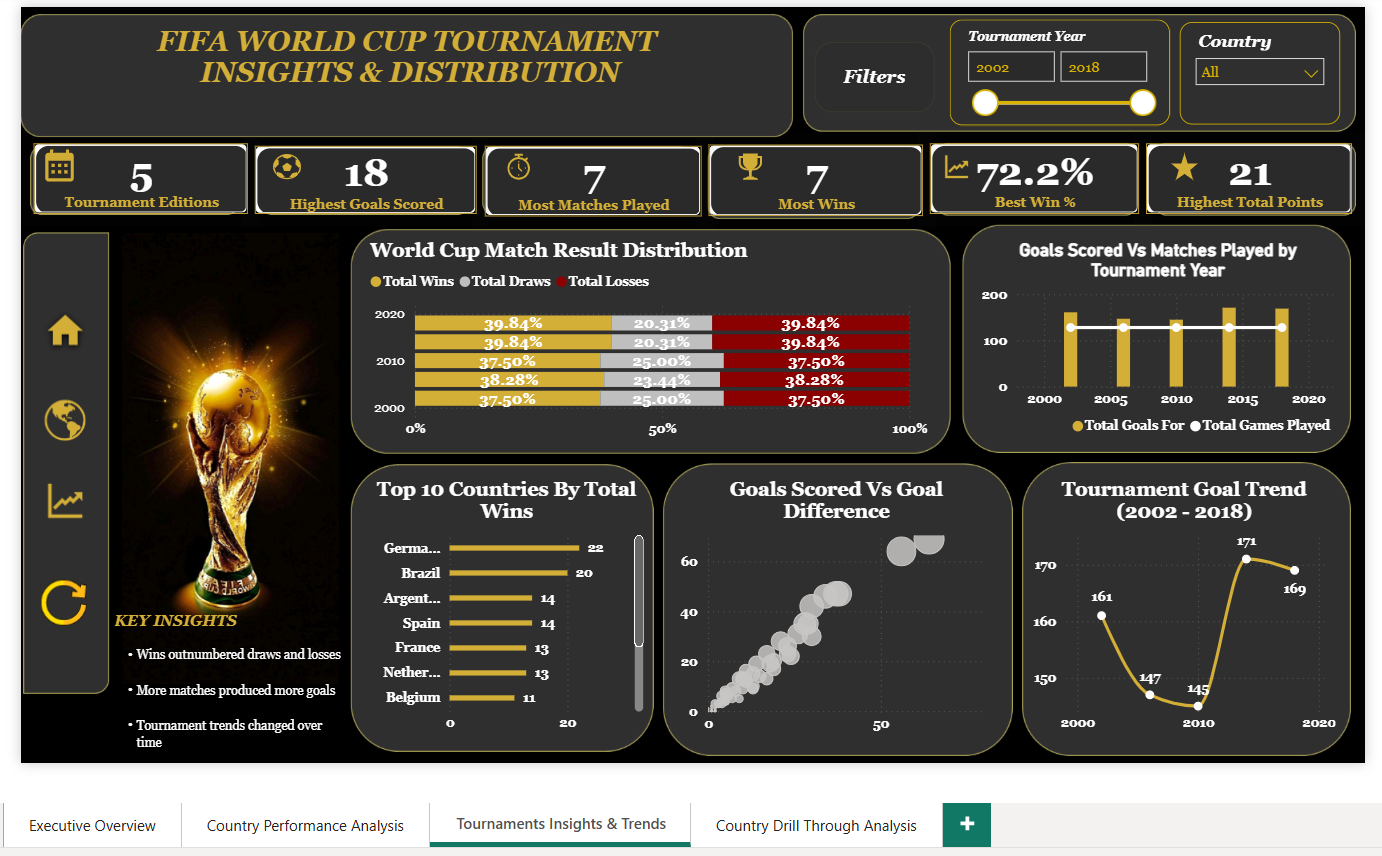

This screenshot's page, from the dashboard's own definition file:
{"tool":"powerbi","page":{"name":"Tournaments Insights & Trends","canvas":[1280,720],"ordinal":2},"visuals":[{"type":"slicer","fields":{"Values":["Dim_Date.Tournament Year"]},"box":[884.5,11.3,209.3,101],"z":0},{"type":"slicer","fields":{"Values":["Dim_Country.Country"]},"box":[1104.1,14.4,152.6,97.9],"z":1000},{"type":"cardVisual","fields":{"Data":["Measures Table.Tournament Editions"]},"box":[0,117.6,228.2,91.8],"z":2000},{"type":"lineClusteredColumnComboChart","title":"Goals Scored Vs Matches Played by Tournament Year","fields":{"Category":["Dim_Date.Tournament Year"],"Y":["Measures Table.Total Goals For"],"Y2":["Measures Table.Total Games Played"]},"box":[909.9,221,346.9,196.3],"z":3000},{"type":"hundredPercentStackedBarChart","title":"World Cup Match Result Distribution","fields":{"Y":["Measures Table.Total Wins","Measures Table.Total Draws","Measures Table.Total Losses"],"Category":["Dim_Date.Tournament Year"]},"box":[327.2,221,540.7,196.3],"z":4000},{"type":"barChart","title":"Top 10 Countries By Total Wins","fields":{"Y":["Measures Table.Total Wins"],"Category":["Dim_Country.Country"]},"box":[327.2,449.4,270.4,249.4],"z":5000},{"type":"scatterChart","title":"Goals Scored Vs Goal Difference","fields":{"X":["Measures Table.Total Goals For"],"Y":["Measures Table.Total Points"],"Size":["Measures Table.Total Wins"],"Category":["Dim_Country.Country"]},"box":[623,449,308,250],"z":6000},{"type":"lineChart","title":"Tournament Goal Trend (2002 - 2018)","fields":{"Category":["Dim_Date.Tournament Year"],"Y":["Measures Table.Total Goals For"]},"box":[958.8,448.2,298.8,249.4],"z":7000},{"type":"cardVisual","fields":{"Data":["Measures Table.Best Win %"]},"box":[853.6,117.6,223.5,91.8],"z":8000},{"type":"cardVisual","fields":{"Data":["Measures Table.Most Wins"]},"box":[642.6,118.8,228.2,92.9],"z":9000},{"type":"cardVisual","fields":{"Data":["Measures Table.Most Matches Played"]},"box":[429.2,120,230.6,91.8],"z":10000},{"type":"cardVisual","fields":{"Data":["Measures Table.Highest Goals Scored"]},"box":[211.1,120,235.3,89.4],"z":11000},{"type":"cardVisual","fields":{"Data":["Measures Table.Highest Total Points"]},"box":[1060,117.6,220,91.8],"z":12000},{"type":"shape","box":[756.5,32.9,114.1,67.1],"z":13000},{"type":"textbox","box":[11.8,11.8,717.6,108.2],"z":14000},{"type":"image","box":[12.2,135.4,50,30.5],"z":15000},{"type":"image","box":[228,136.6,50,30.5],"z":16000},{"type":"image","box":[673.4,136.7,42.2,30.5],"z":17000},{"type":"image","box":[1088.3,136.7,39.8,30.5],"z":18000},{"type":"image","box":[452.3,136.7,43.8,30.5],"z":19000},{"type":"image","box":[870.3,136.7,42.2,30.5],"z":20000},{"type":"shape","box":[86.5,574,131.7,29.8],"z":21000},{"type":"textbox","box":[86.5,603.8,223.1,116.3],"z":22000},{"type":"actionButton","box":[8.7,279.8,67.3,59.6],"z":23000},{"type":"actionButton","box":[14.8,368.5,55.6,49.1],"z":24000},{"type":"actionButton","box":[15.7,448.1,52.8,45.4],"z":25000},{"type":"actionButton","box":[15,545,50,44],"z":26000}]}

Visuals, with their boxes on the page's 1280x720 design canvas (x1, y1, x2, y2). These are canvas units, not pixel positions in the 1382x856 screenshot, which may show the page scaled, cropped or inside an application window:
slicer - Dim_Date.Tournament Year: [884, 11, 1094, 112]
slicer - Dim_Country.Country: [1104, 14, 1257, 112]
cardVisual - Measures Table.Tournament Editions: [0, 118, 228, 209]
"Goals Scored Vs Matches Played by Tournament Year" lineClusteredColumnComboChart: [910, 221, 1257, 417]
"World Cup Match Result Distribution" hundredPercentStackedBarChart: [327, 221, 868, 417]
"Top 10 Countries By Total Wins" barChart: [327, 449, 598, 699]
"Goals Scored Vs Goal Difference" scatterChart: [623, 449, 931, 699]
"Tournament Goal Trend (2002 - 2018)" lineChart: [959, 448, 1258, 698]
cardVisual - Measures Table.Best Win %: [854, 118, 1077, 209]
cardVisual - Measures Table.Most Wins: [643, 119, 871, 212]
cardVisual - Measures Table.Most Matches Played: [429, 120, 660, 212]
cardVisual - Measures Table.Highest Goals Scored: [211, 120, 446, 209]
cardVisual - Measures Table.Highest Total Points: [1060, 118, 1280, 209]
shape: [756, 33, 871, 100]
textbox: [12, 12, 729, 120]
image: [12, 135, 62, 166]
image: [228, 137, 278, 167]
image: [673, 137, 716, 167]
image: [1088, 137, 1128, 167]
image: [452, 137, 496, 167]
image: [870, 137, 912, 167]
shape: [86, 574, 218, 604]
textbox: [86, 604, 310, 720]
actionButton: [9, 280, 76, 339]
actionButton: [15, 368, 70, 418]
actionButton: [16, 448, 68, 494]
actionButton: [15, 545, 65, 589]
